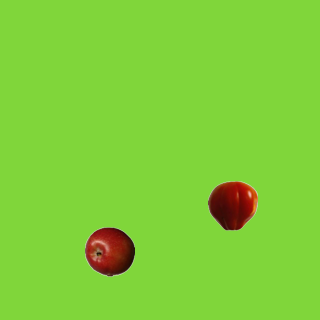Apple Braeburn: (84, 226, 134, 276)
Tomato 1: (207, 180, 257, 230)
